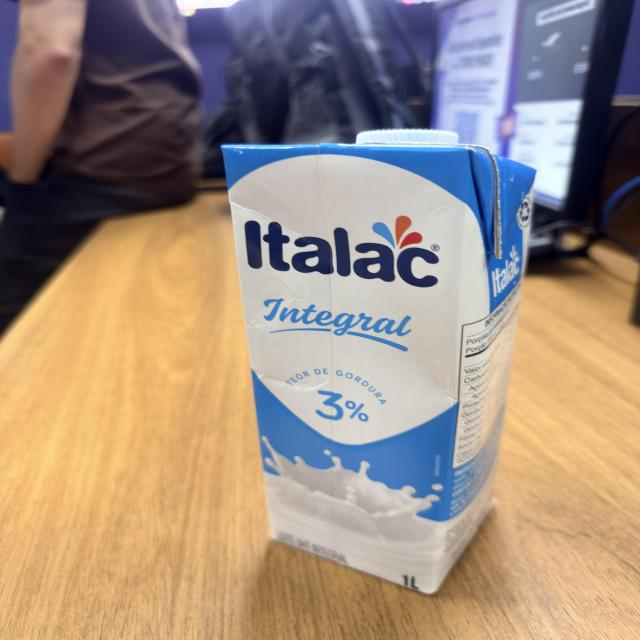Caixa de Leite: (225, 126, 536, 592)
